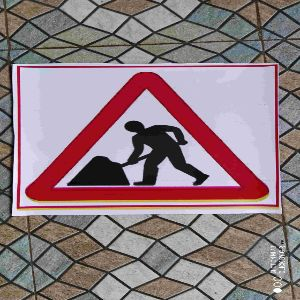men at work: (14, 64, 280, 212)
